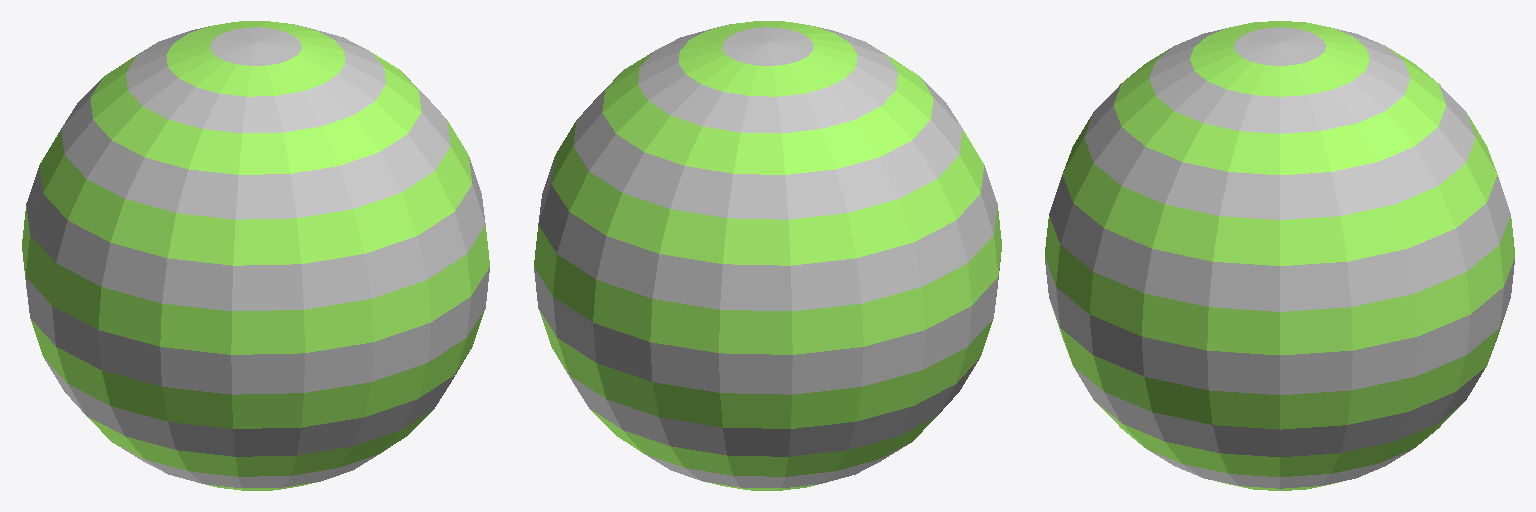
3 views of the same model, side by side, from view 1: azimuth 30°, elevation 25°; view 2: azimuth 150°, elevation 25°; view 3: azimuth 270°, elevation 25° (orthographic).
Visible parts, largest first — view 1: Sphere; view 2: Sphere; view 3: Sphere.
Part boxes in pixels (x1,y1,x2,y2): Sphere: (22,21,489,490); Sphere: (534,21,1001,490); Sphere: (1045,21,1514,490).
Bounding box in the file's own units: 2 × 2 × 2.
2 materials, 1 textured.